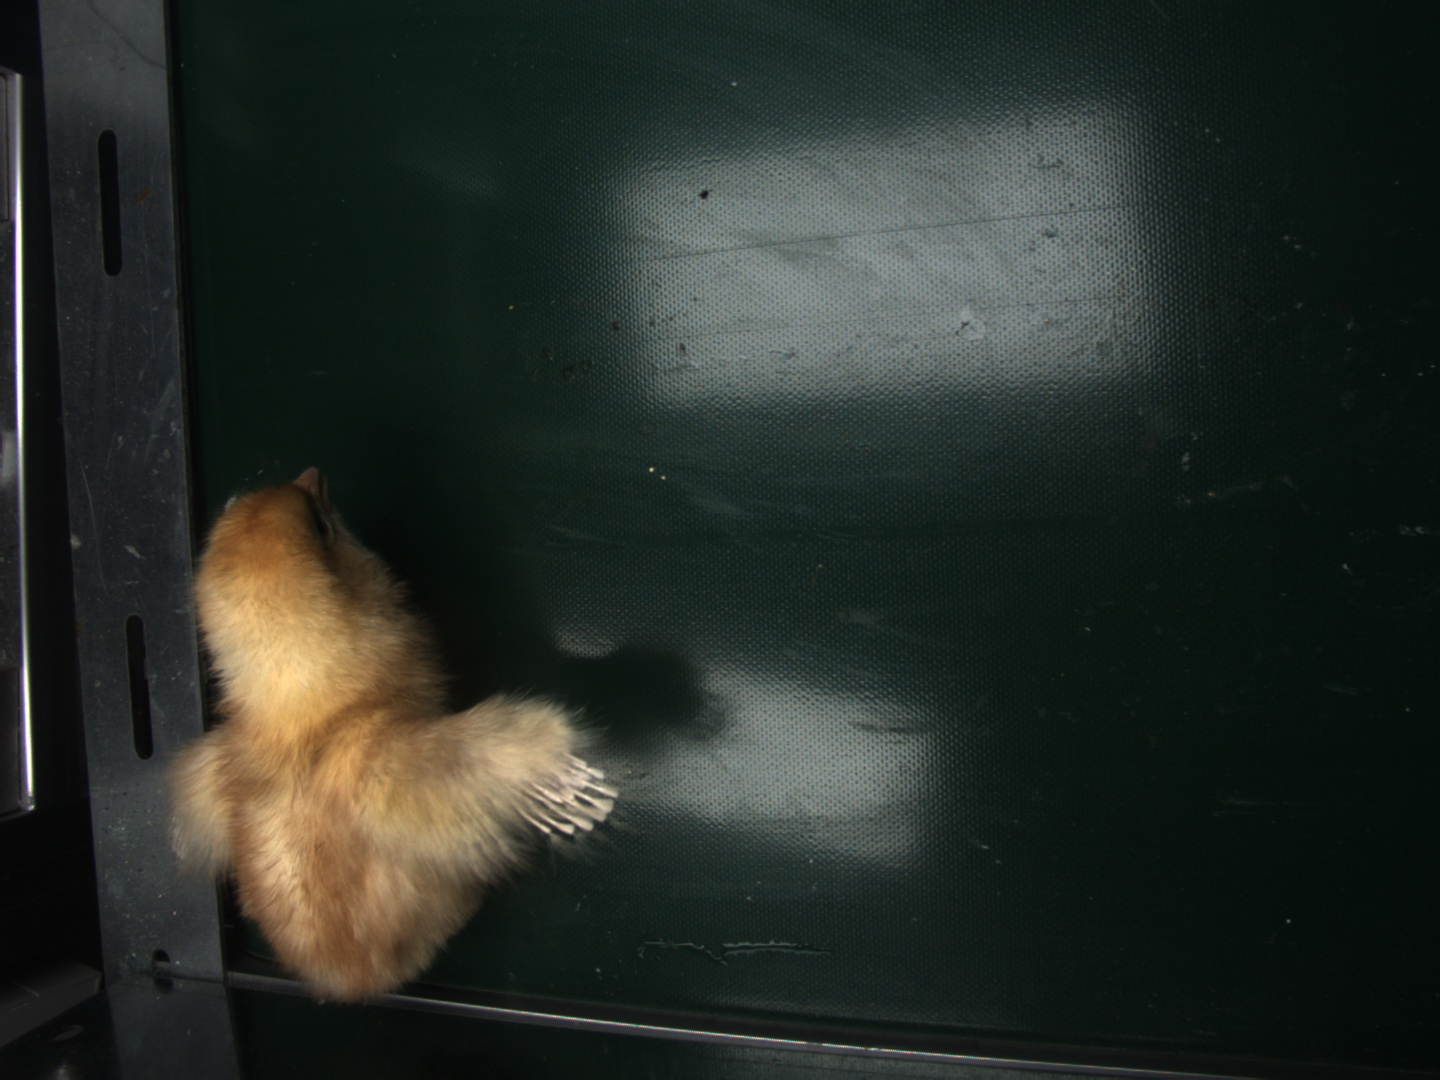female: (519, 757, 617, 836)
